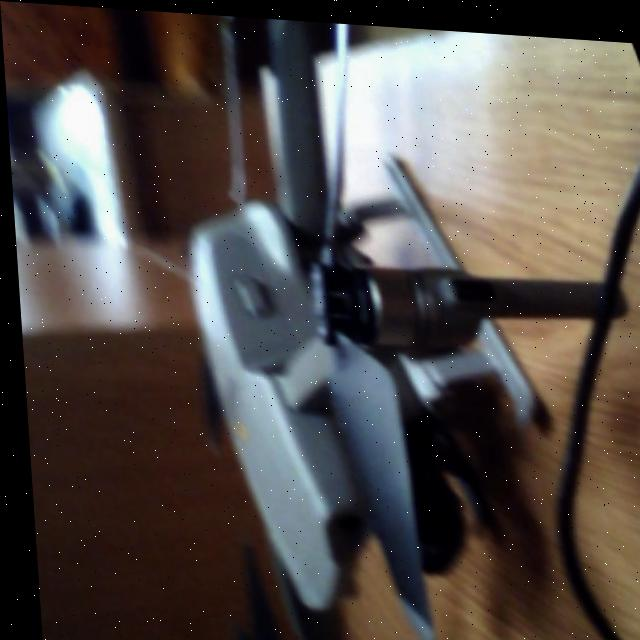drone: (113, 6, 623, 640)
